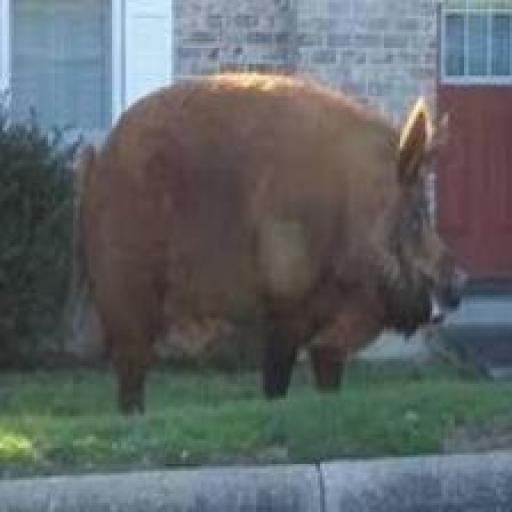Pig: (60, 64, 476, 442)
